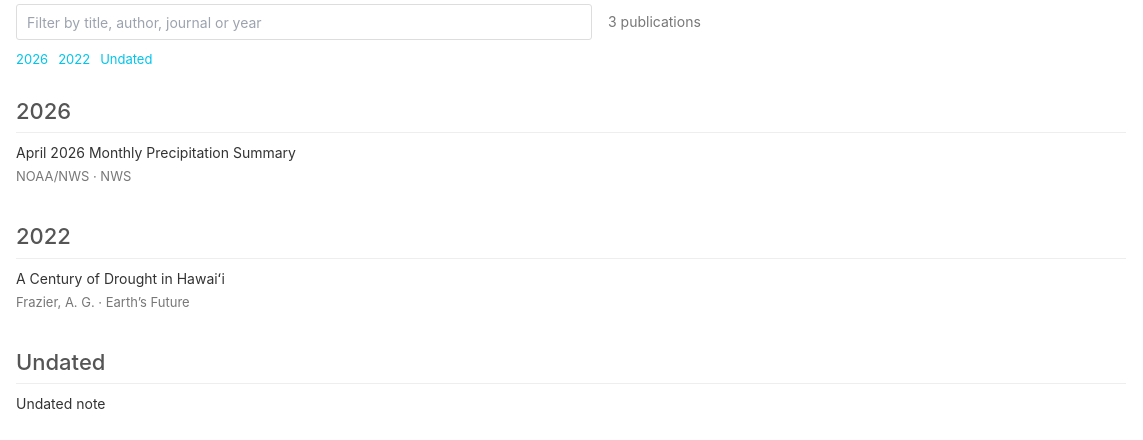
it: the Library › lists them with their links and filters as you type
Expected: the number of list items with test id "library-item" is 3, [16,132,1126,195]; [16,258,1126,321]; [16,383,1126,424]
Expected: the heading "2026" is shown, [16,98,71,124]
Type "drought" into the search field with test id "library-filter" at (304, 22), box [16,4,592,40]
Wait 10 ms
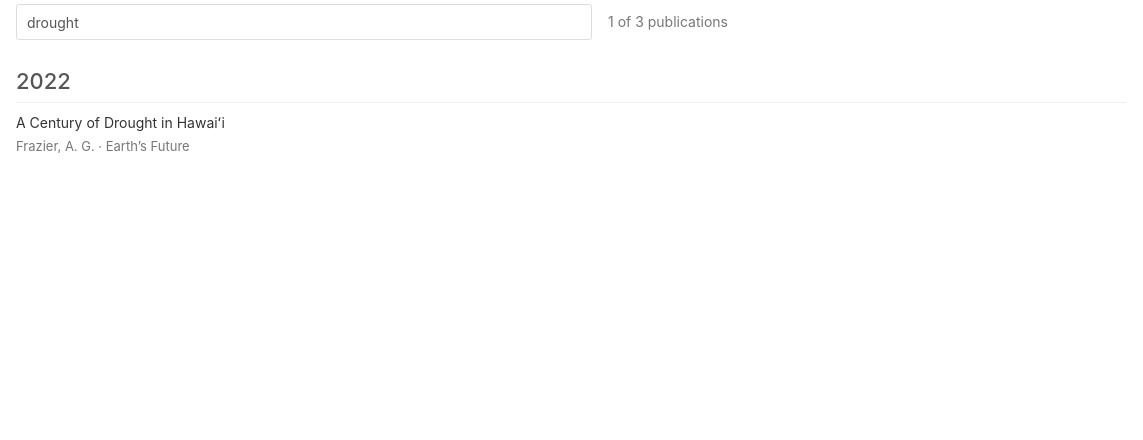
Now the number of list items with test id "library-item" is 1, box [16,102,1126,165]
Now the text with test id "library-count" reads "1 of 3 publications", box [608,13,728,30]
